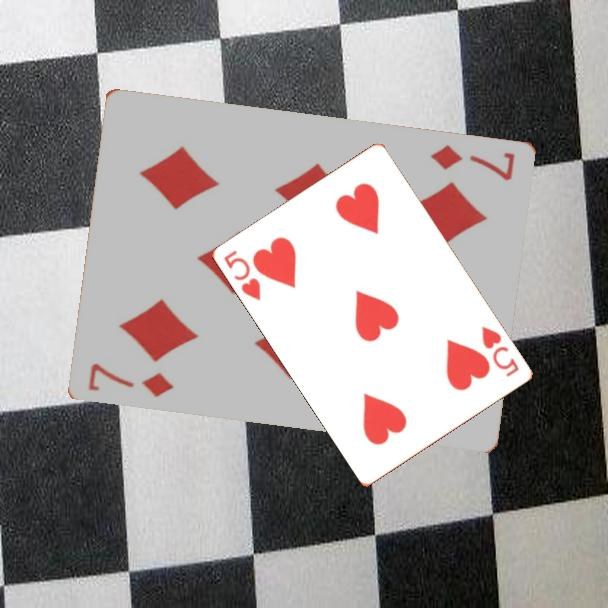d07: (426, 142, 517, 184), (84, 360, 175, 401)
h05: (220, 246, 264, 304), (478, 323, 522, 380)
